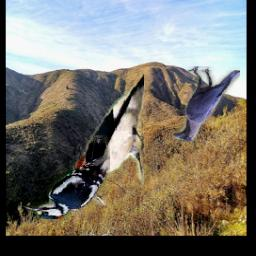Crow: (174, 66, 241, 142)
Woodpecker: (71, 75, 145, 205), (22, 136, 110, 220)
